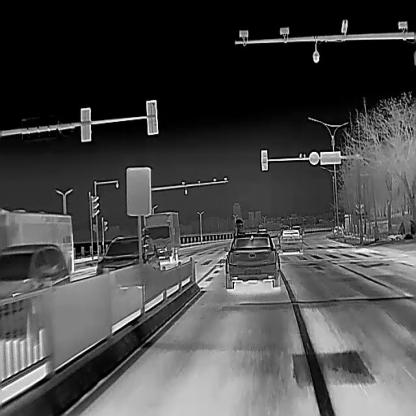bus: (0, 208, 73, 274)
car: (0, 242, 70, 336), (224, 233, 280, 288), (95, 235, 160, 276), (276, 229, 302, 253), (292, 224, 303, 236)
truck: (142, 212, 180, 262)
